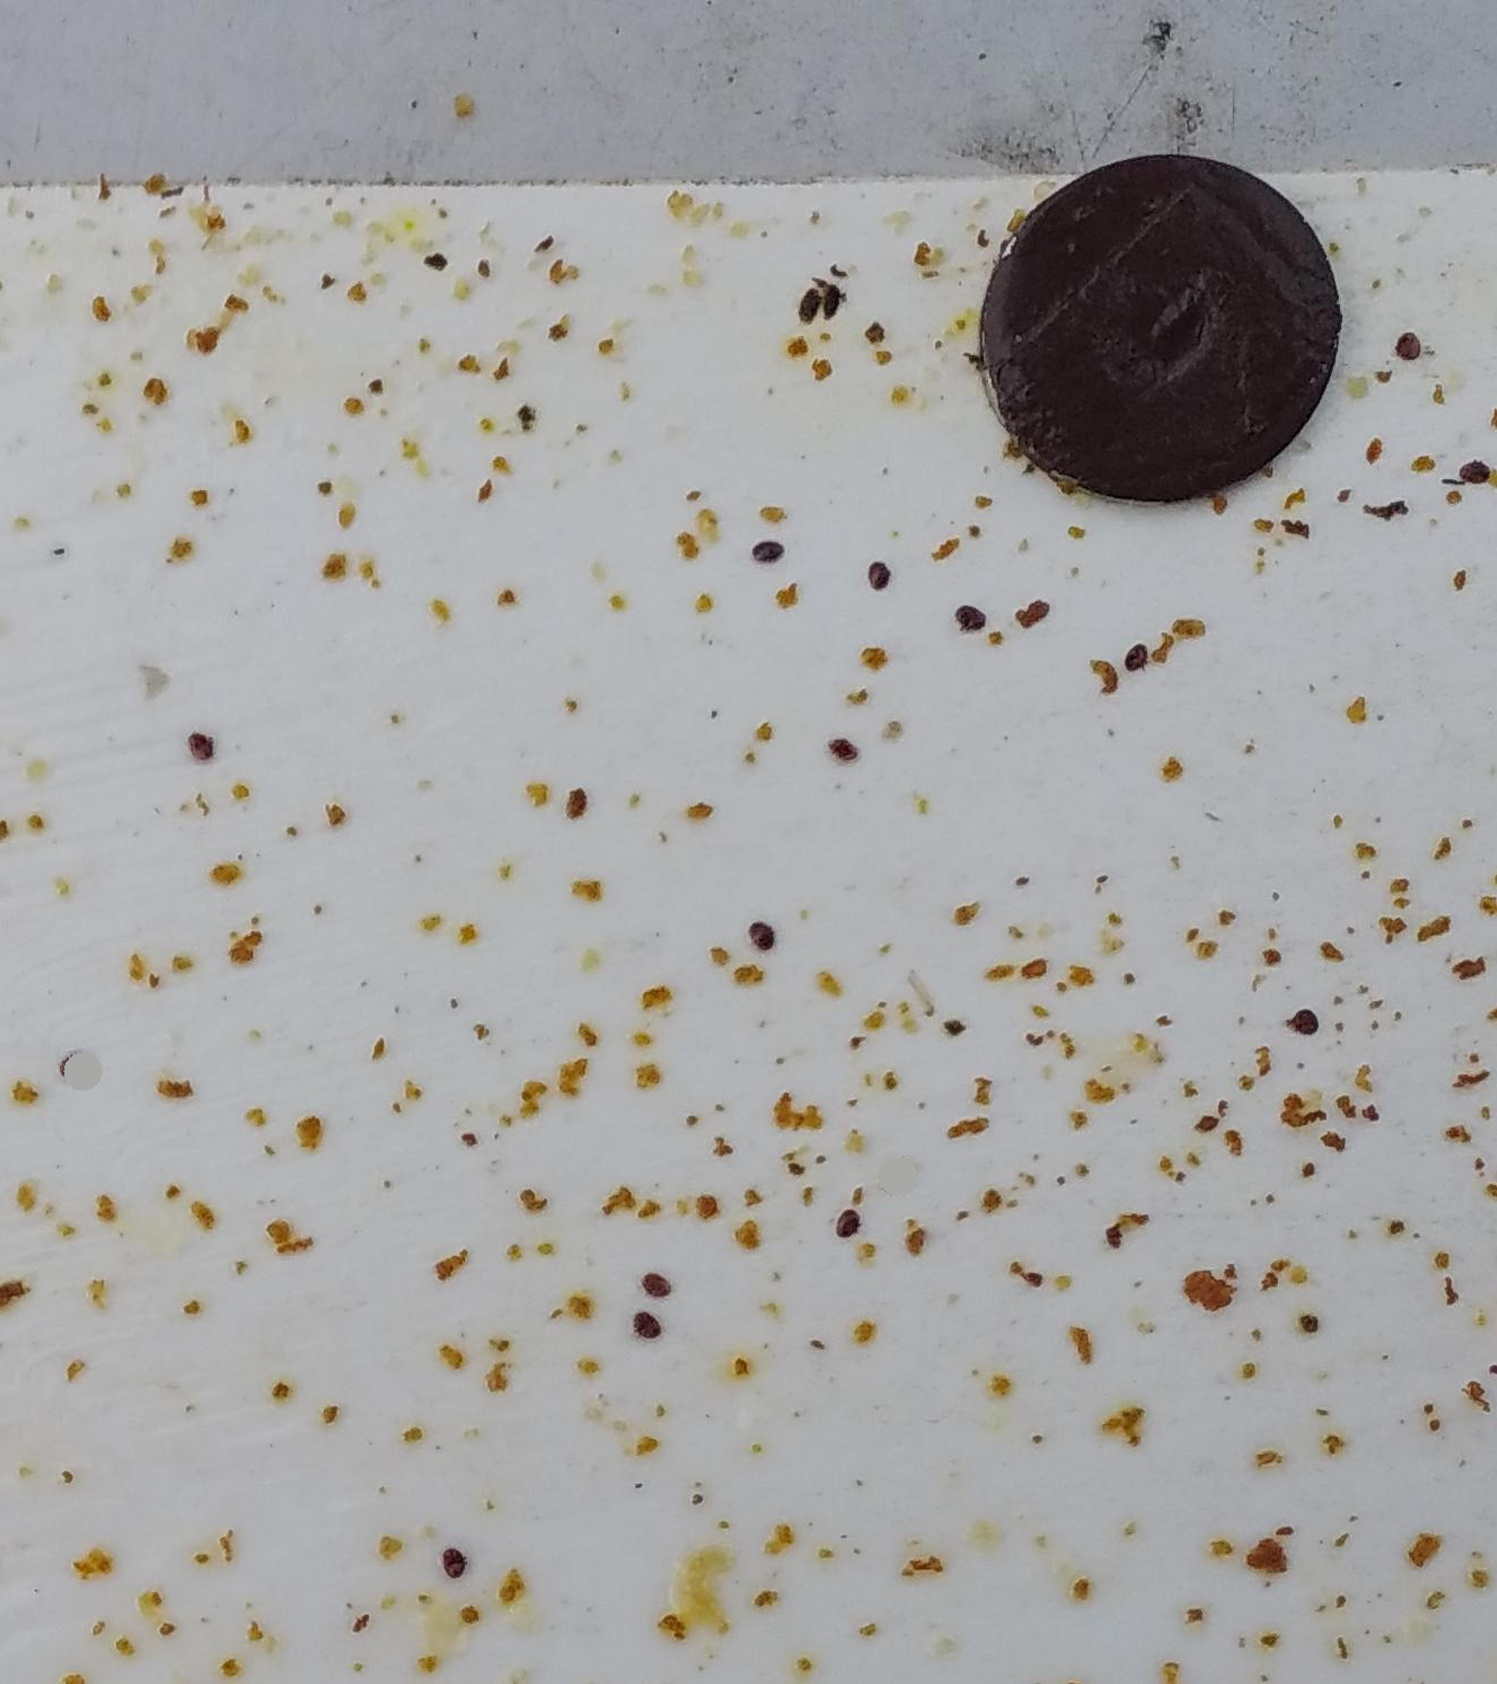Varroa: (1458, 460, 1488, 491), (952, 597, 981, 627), (1290, 1012, 1319, 1042), (1123, 645, 1152, 674), (863, 564, 889, 593), (756, 541, 780, 570), (439, 1547, 465, 1573), (1394, 330, 1420, 356), (189, 729, 214, 756), (646, 1273, 670, 1299), (829, 737, 853, 765), (634, 1315, 657, 1341), (750, 922, 772, 945), (834, 1211, 855, 1233), (64, 1057, 79, 1070)
